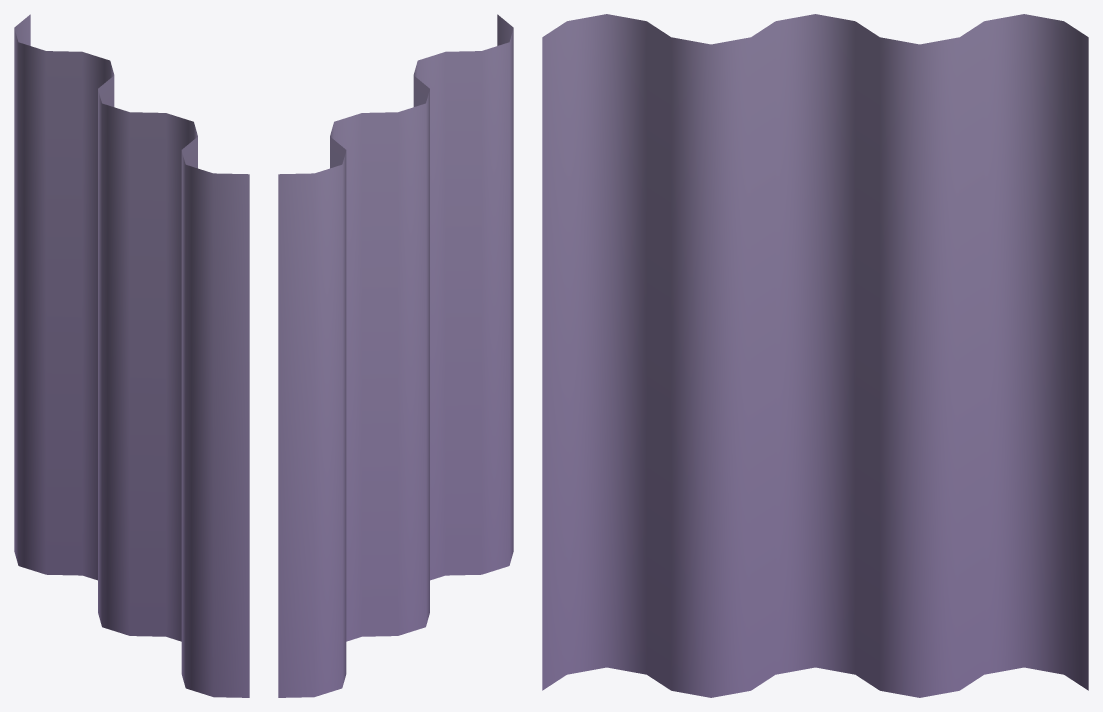
Rendered from (%no-merge) (%drape).glb.
The picture shows the model from 3 angles, left to right: view 1: azimuth 30°, elevation 25°; view 2: azimuth 150°, elevation 25°; view 3: azimuth 270°, elevation 25°; orthographic projection. The views are drawn at different scales.
Visible parts, largest first — view 1: (%no-merge) (%drape)(Clone); view 2: (%no-merge) (%drape)(Clone); view 3: (%no-merge) (%drape)(Clone).
Boxes of the visible parts, x1=… form: (%no-merge) (%drape)(Clone): x1=14, y1=14, x2=249, y2=697; (%no-merge) (%drape)(Clone): x1=278, y1=14, x2=513, y2=697; (%no-merge) (%drape)(Clone): x1=542, y1=14, x2=1088, y2=697.
Size of the model in its own units: 0.1 by 1 by 0.7574.
